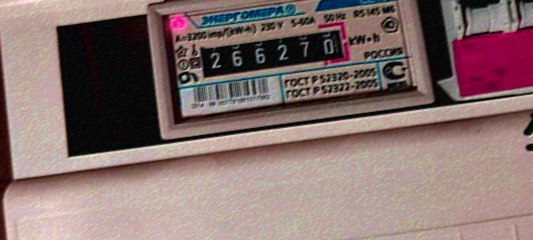0: (320, 37, 334, 55)
2: (206, 50, 221, 70), (274, 42, 288, 62)
6: (229, 48, 243, 68), (252, 46, 266, 66)
7: (297, 39, 311, 58)
screen: (187, 17, 355, 88)
